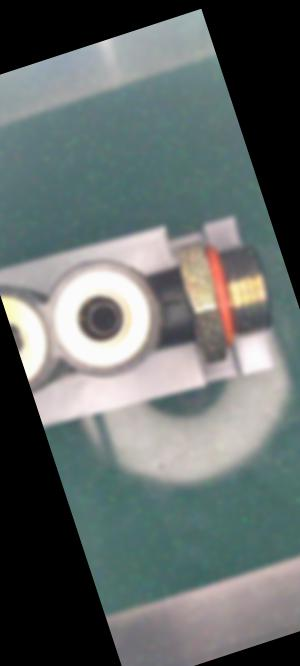craze: (157, 292, 189, 315)
